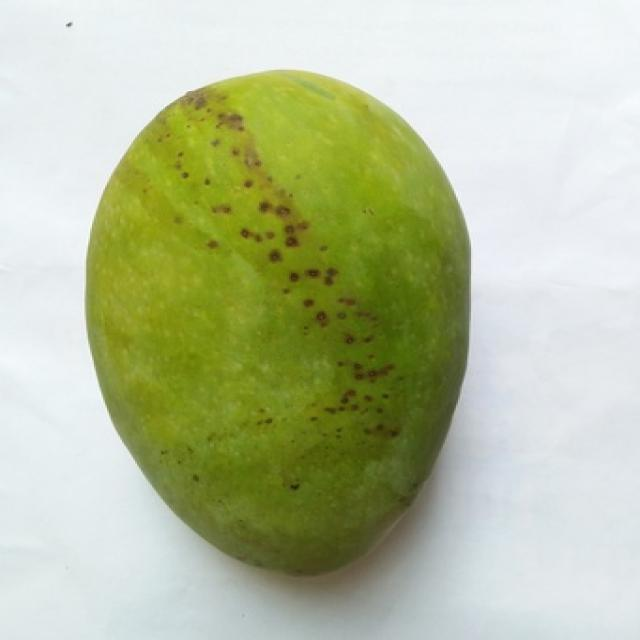Mango: (86, 71, 467, 572)
